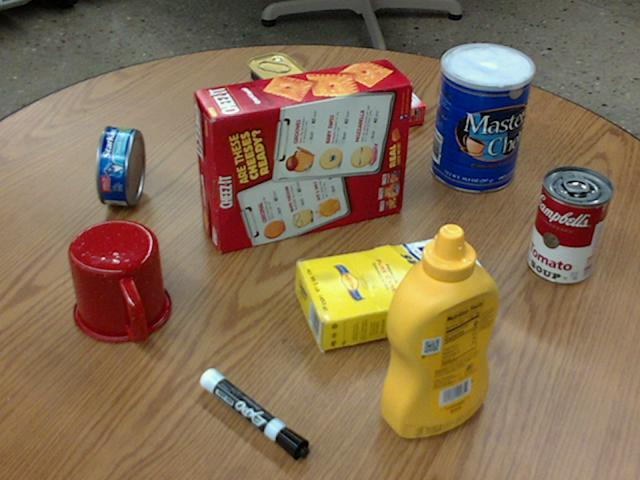cracker_box: (193, 58, 409, 252)
gelatin_box: (349, 75, 425, 129)
large_marker: (199, 369, 307, 459)
master_chef_can: (430, 43, 533, 191)
mug: (69, 220, 172, 342)
mustard_bottle: (381, 224, 497, 437)
potted_meat_can: (248, 52, 318, 148)
sugar_box: (294, 234, 496, 349)
tomato_soup_can: (529, 166, 612, 283)
tuna_fish_can: (97, 127, 143, 205)
